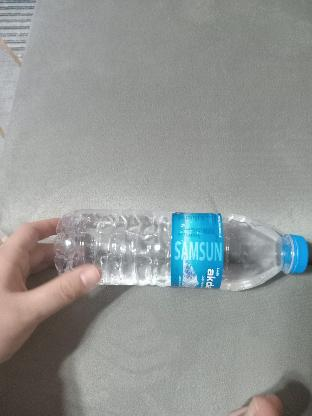Plastic Bottle: (46, 207, 312, 297)
